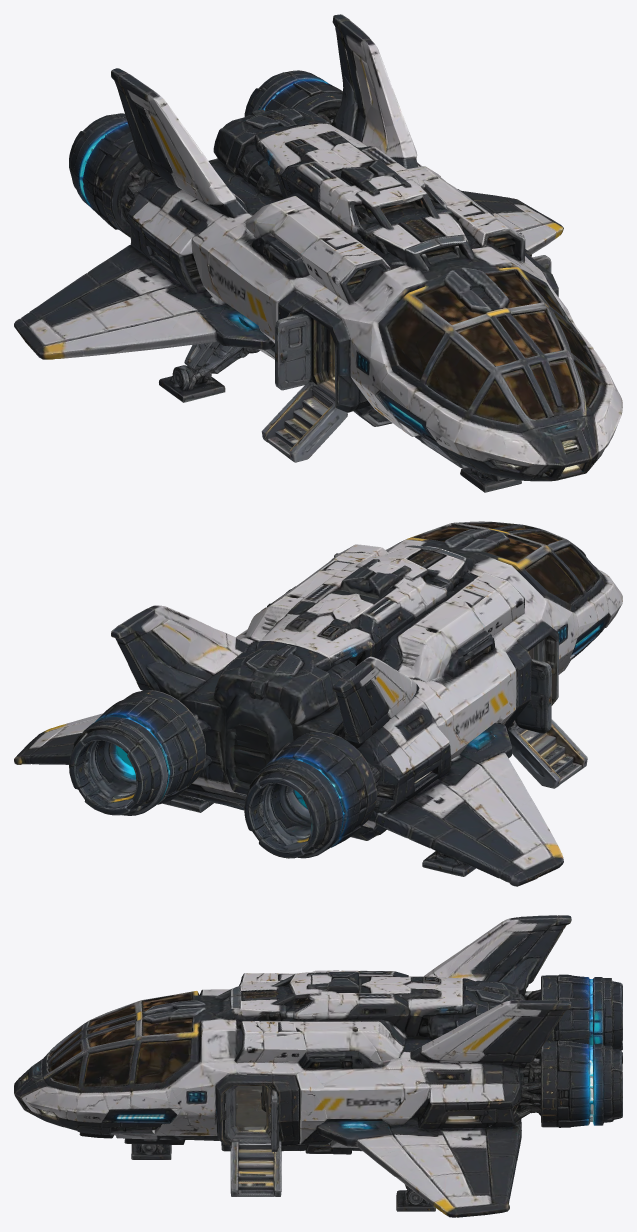
Rendered from explorer-meshy-b.glb.
3 renders of one model, top to bottom at view 1: azimuth 30°, elevation 25°; view 2: azimuth 150°, elevation 25°; view 3: azimuth 270°, elevation 25°, orthographic. The views are drawn at different scales.
Parts seen in each view (by area): view 1: Mesh_0; view 2: Mesh_0; view 3: Mesh_0.
Part boxes in pixels (x1,y1,x2,y2): Mesh_0: (14,14,622,492); Mesh_0: (14,521,622,886); Mesh_0: (14,915,622,1217).
Bounding box in the file's own units: 13.6 × 6.07 × 17.3.
1 material, 1 textured.
